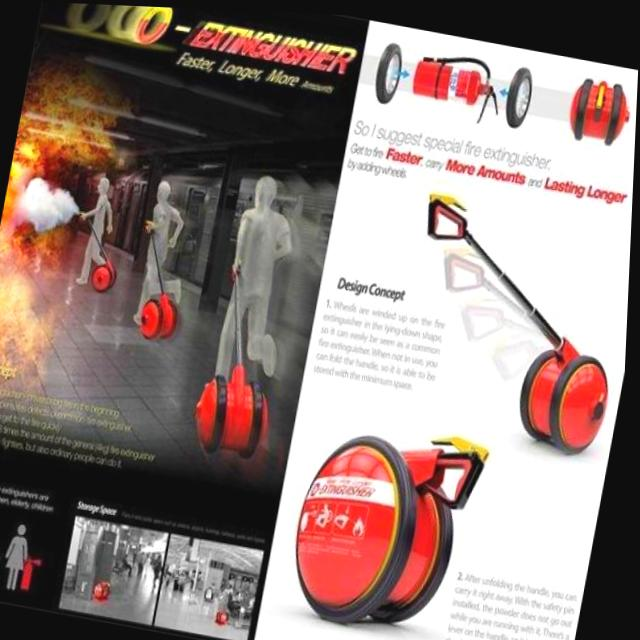FireExtinguisher: (404, 38, 510, 125)
